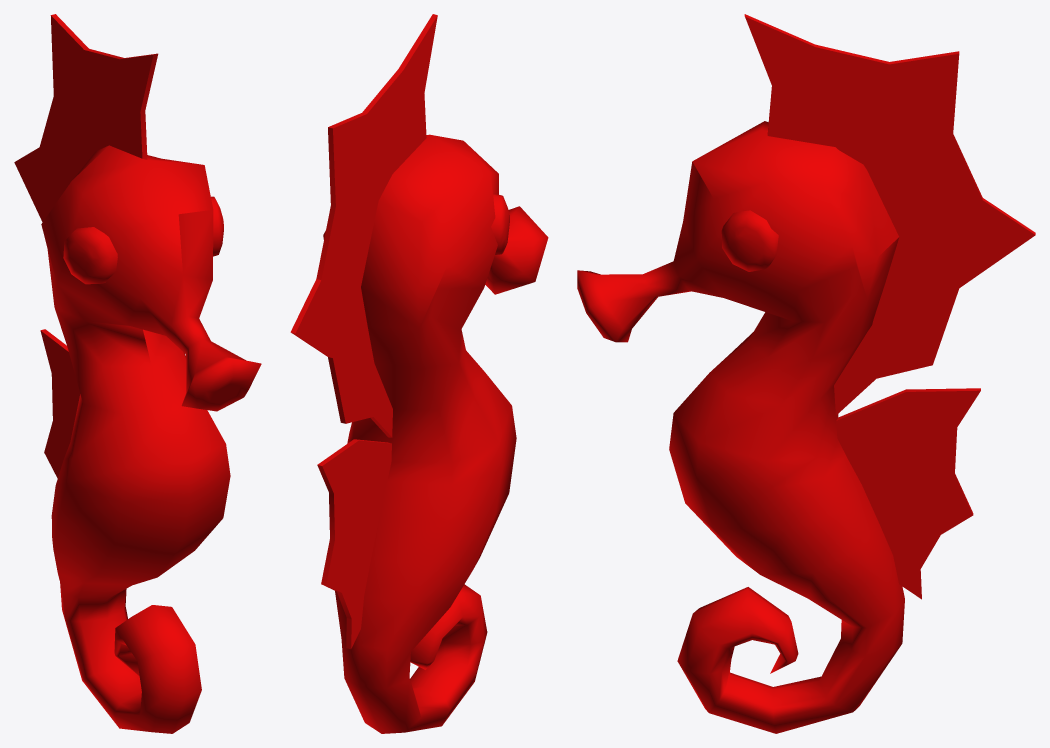
3 renders of one model, left to right at view 1: azimuth 30°, elevation 25°; view 2: azimuth 150°, elevation 25°; view 3: azimuth 270°, elevation 25°, orthographic. The views are drawn at different scales.
Parts seen in each view (by area): view 1: Fish_SeaHorse; view 2: Fish_SeaHorse; view 3: Fish_SeaHorse.
Boxes of the visible parts, <box> form: Fish_SeaHorse: <box>14,14,261,733</box>; Fish_SeaHorse: <box>290,14,548,733</box>; Fish_SeaHorse: <box>577,14,1035,733</box>.
Size of the model in its own units: 0.0541 by 0.2344 by 0.1359.
